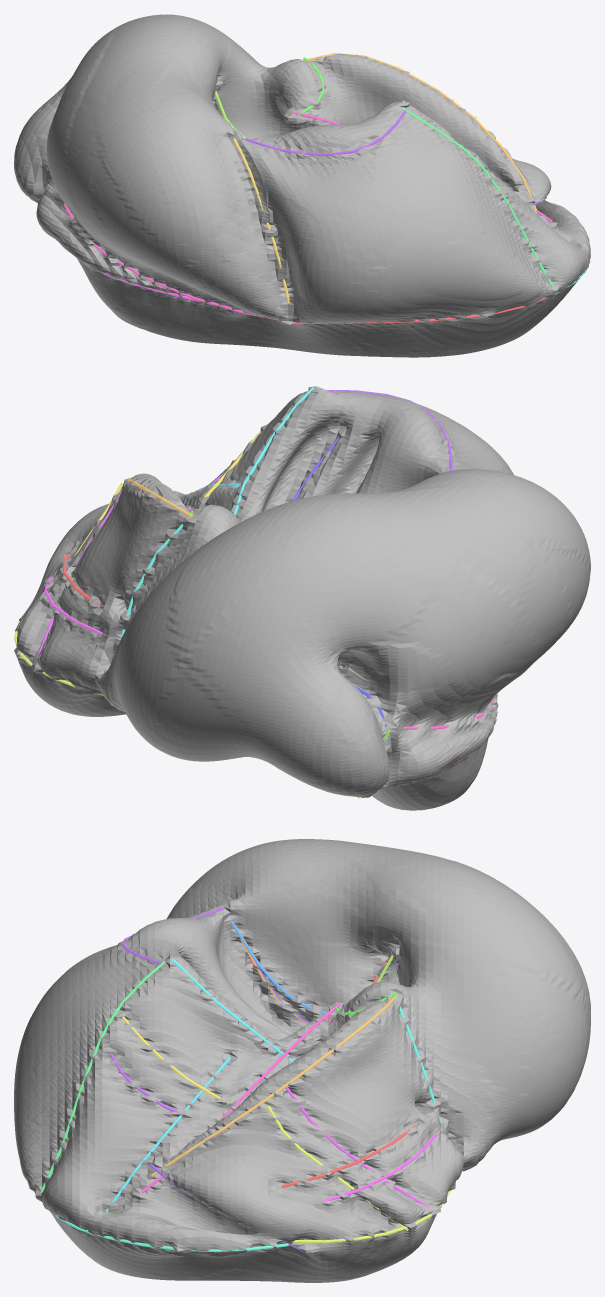
The model's file is author1_building.gltf.
3 renders of one model, top to bottom at view 1: azimuth 30°, elevation 25°; view 2: azimuth 150°, elevation 25°; view 3: azimuth 270°, elevation 25°, orthographic. The views are drawn at different scales.
Size of the model in its own units: 0.7569 by 0.4028 by 0.7643.
